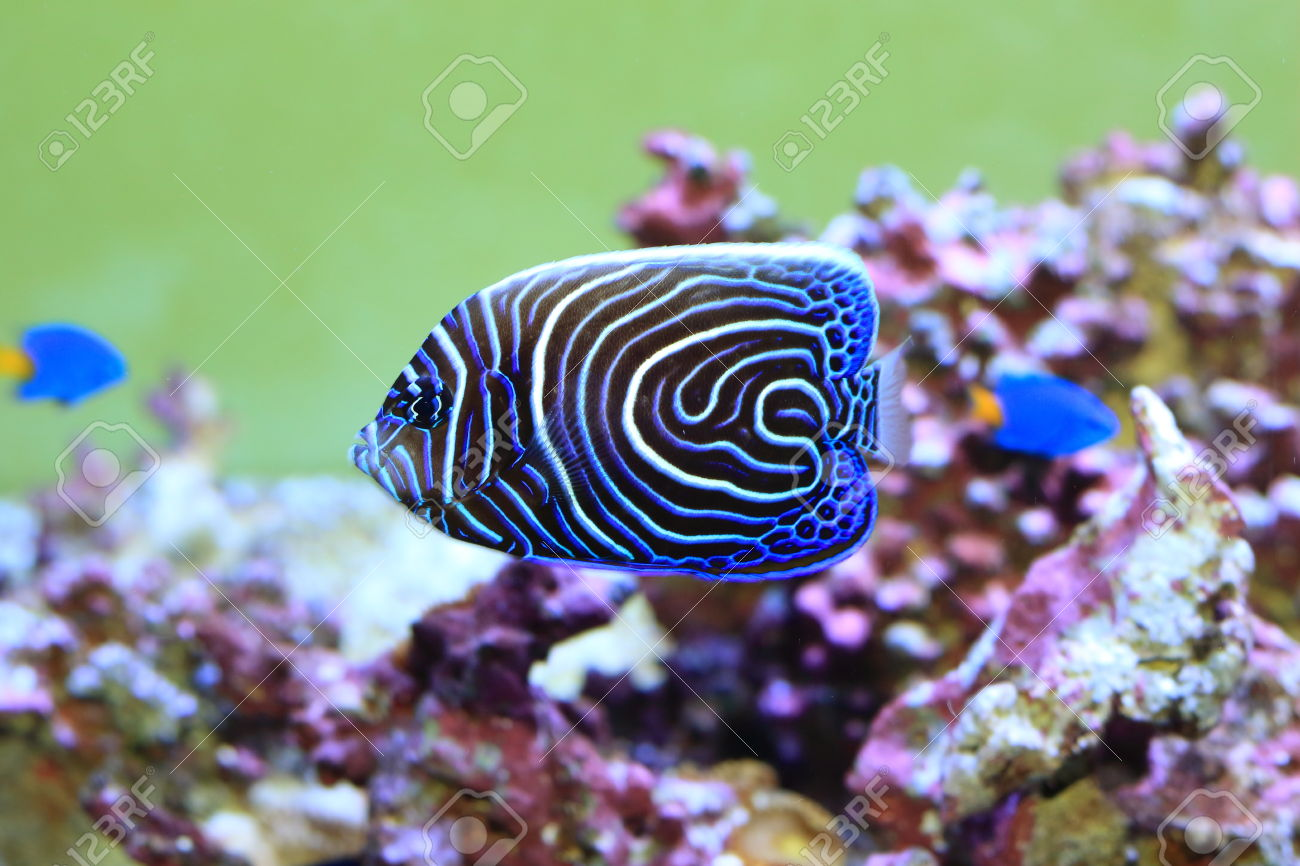Pomacanthus_imperator: (317, 225, 945, 628)
